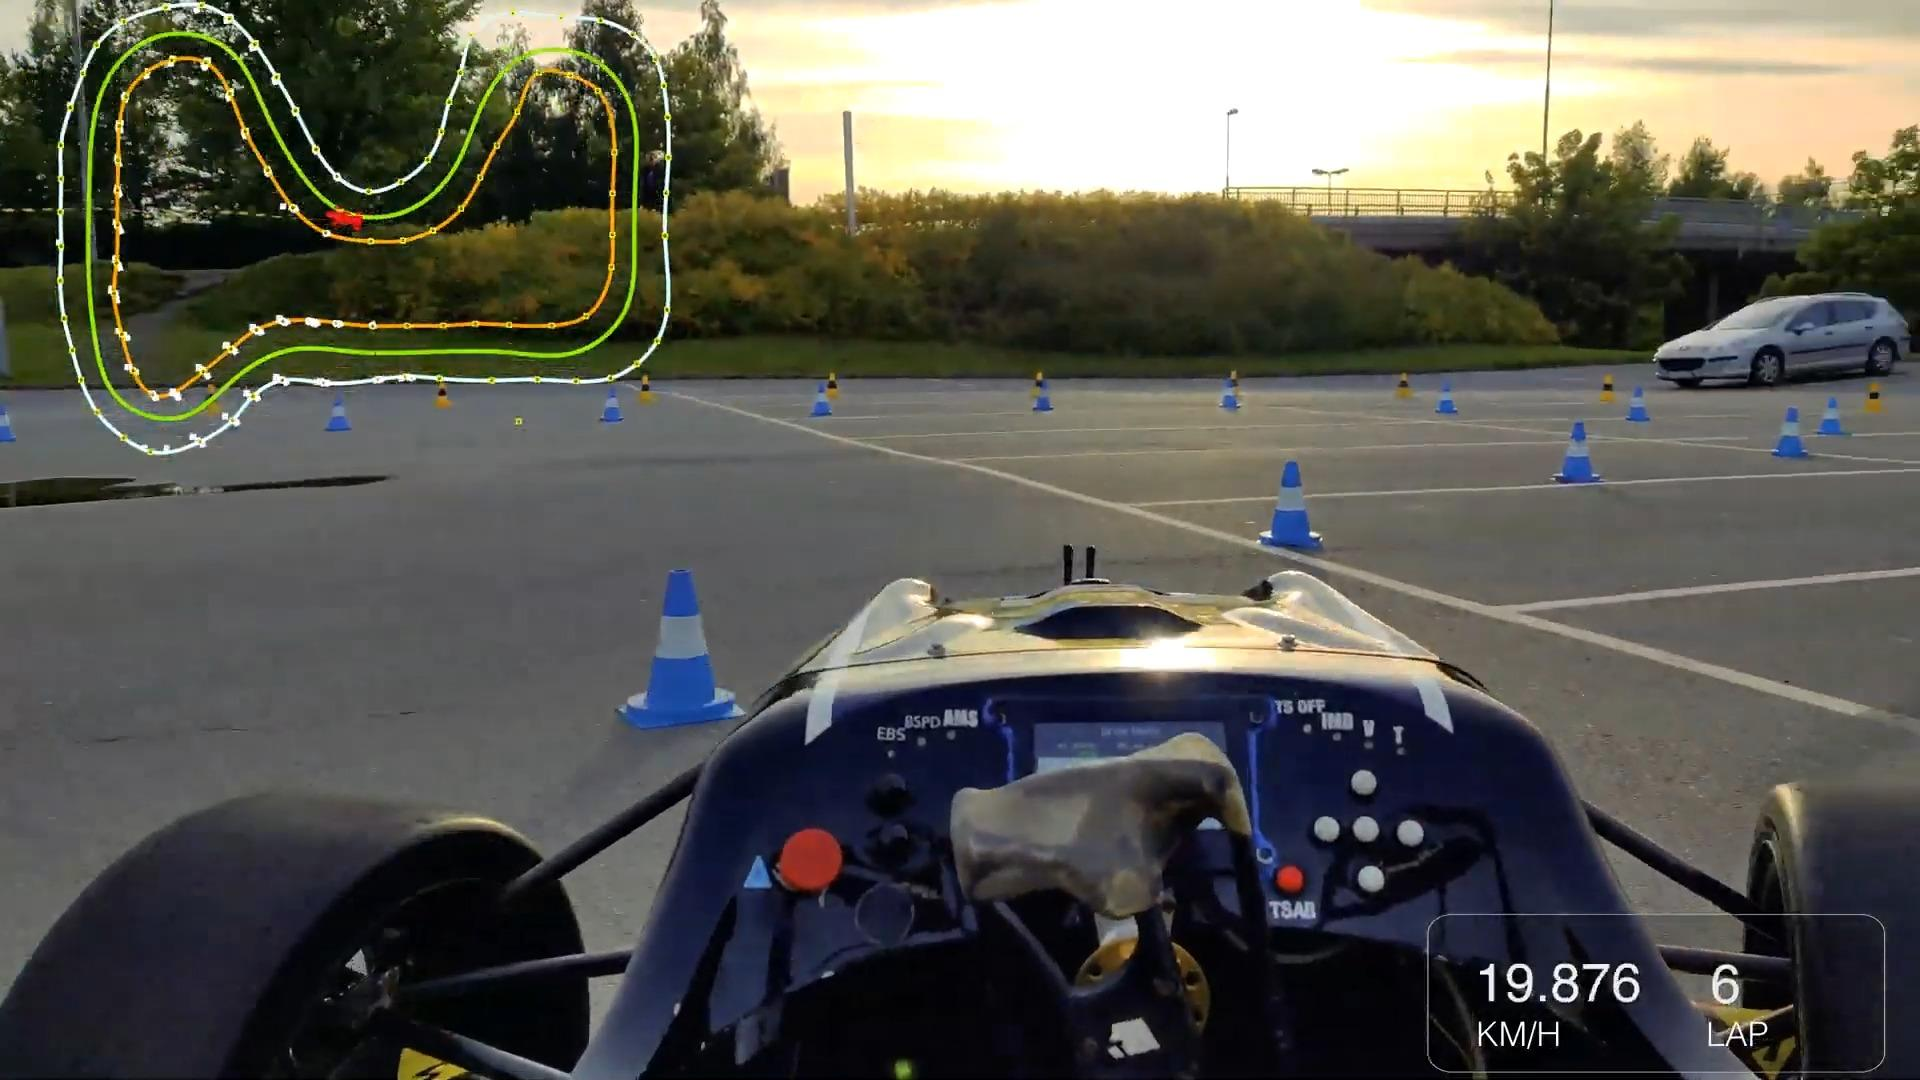blue_cone: (624, 567, 746, 728), (1259, 459, 1321, 545), (1556, 423, 1602, 481), (1771, 410, 1812, 456), (1818, 396, 1849, 435), (1627, 385, 1652, 423), (327, 397, 352, 431), (600, 388, 625, 422), (811, 384, 832, 421), (1437, 384, 1458, 415), (1222, 378, 1242, 410), (1035, 385, 1052, 411)
yellow_cone: (434, 380, 452, 410), (640, 377, 651, 402)
